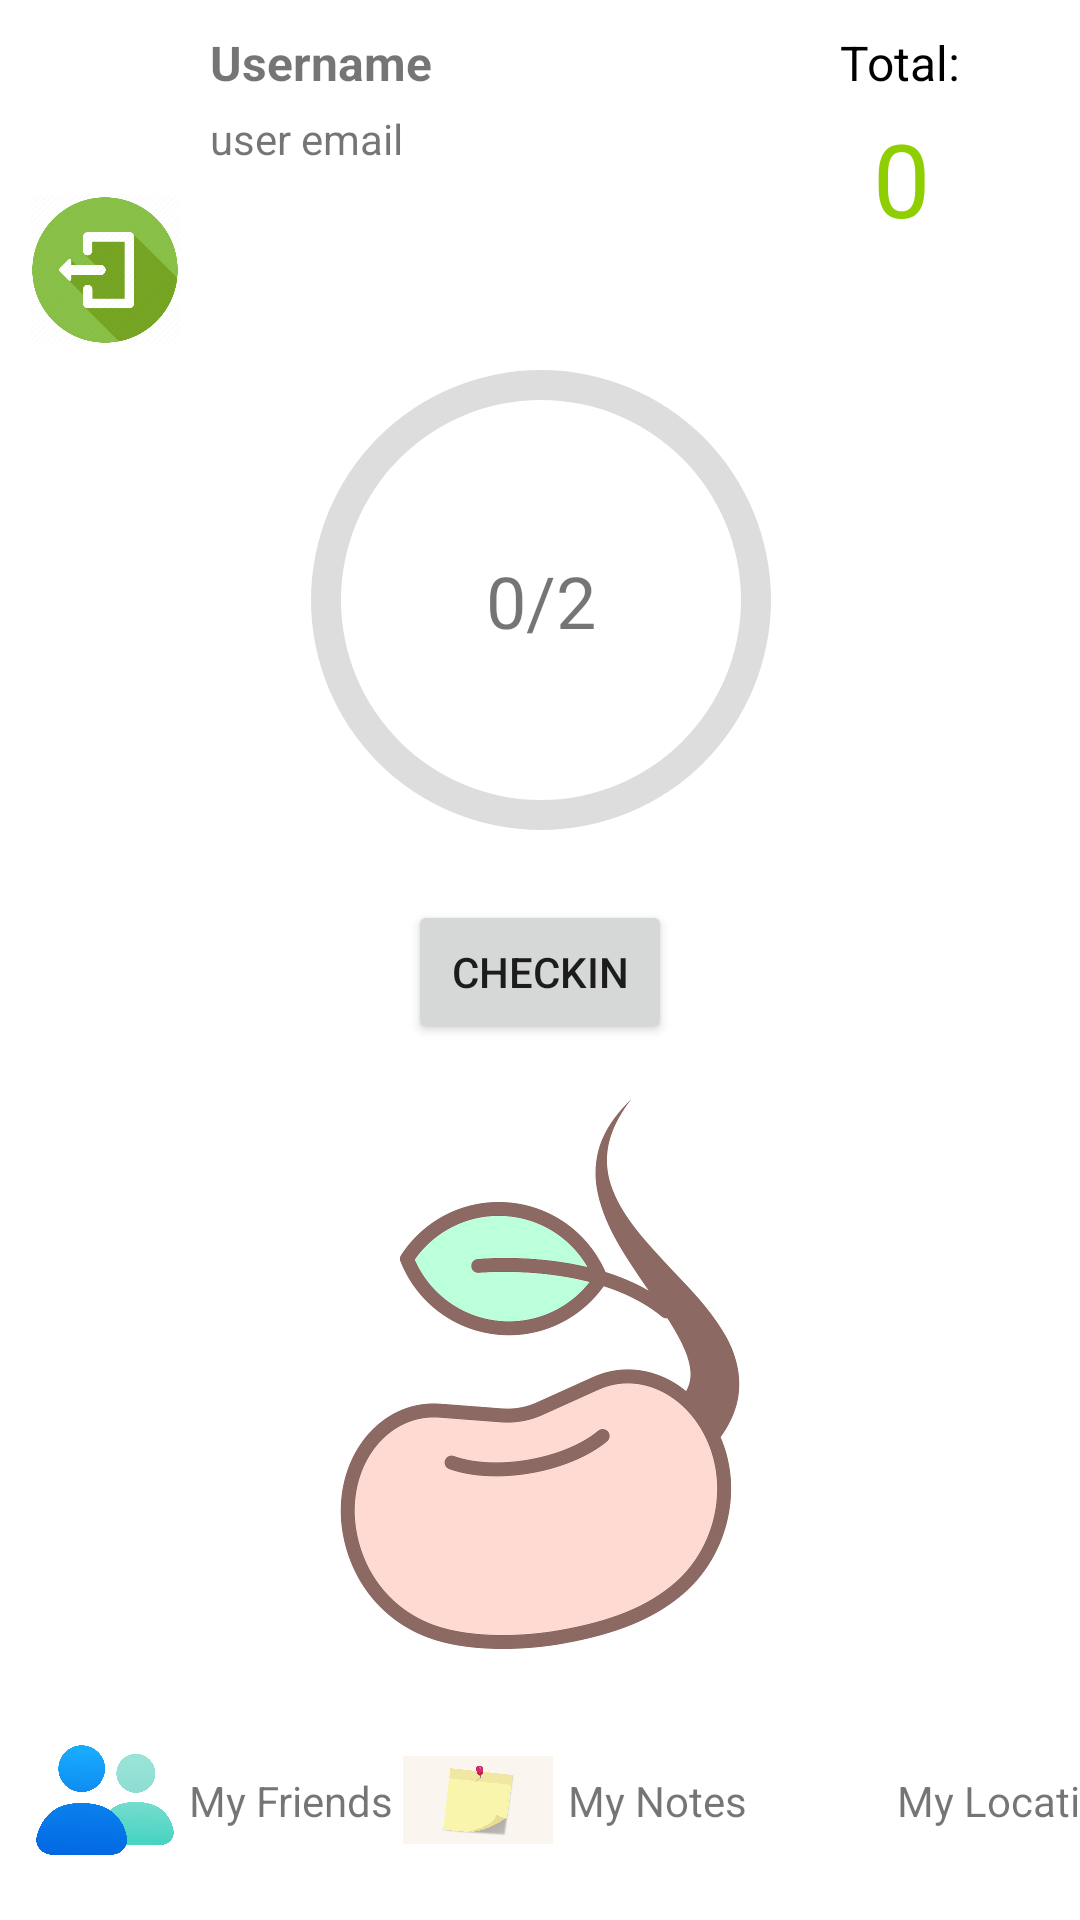

Icons on this 1080*1920 Android screen, each with the point to tap as (x=x, y=y):
friendlisticon: (x=105, y=1800)
